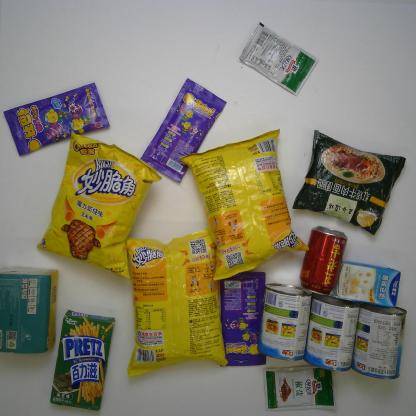Candy: (140, 77, 227, 183), (3, 82, 110, 157), (220, 270, 267, 368)
Canned Food: (303, 292, 360, 372), (256, 282, 312, 362), (350, 302, 406, 380)
Dessert: (48, 309, 116, 411)
Drink: (298, 225, 349, 297)
Instant Noodles: (292, 130, 406, 236)
Milk: (332, 259, 402, 308)
Puffed Food: (180, 127, 310, 283), (35, 130, 162, 280), (125, 227, 230, 379)
Seasoner: (238, 22, 318, 98), (262, 365, 338, 412)
Tissue: (0, 266, 59, 354)
